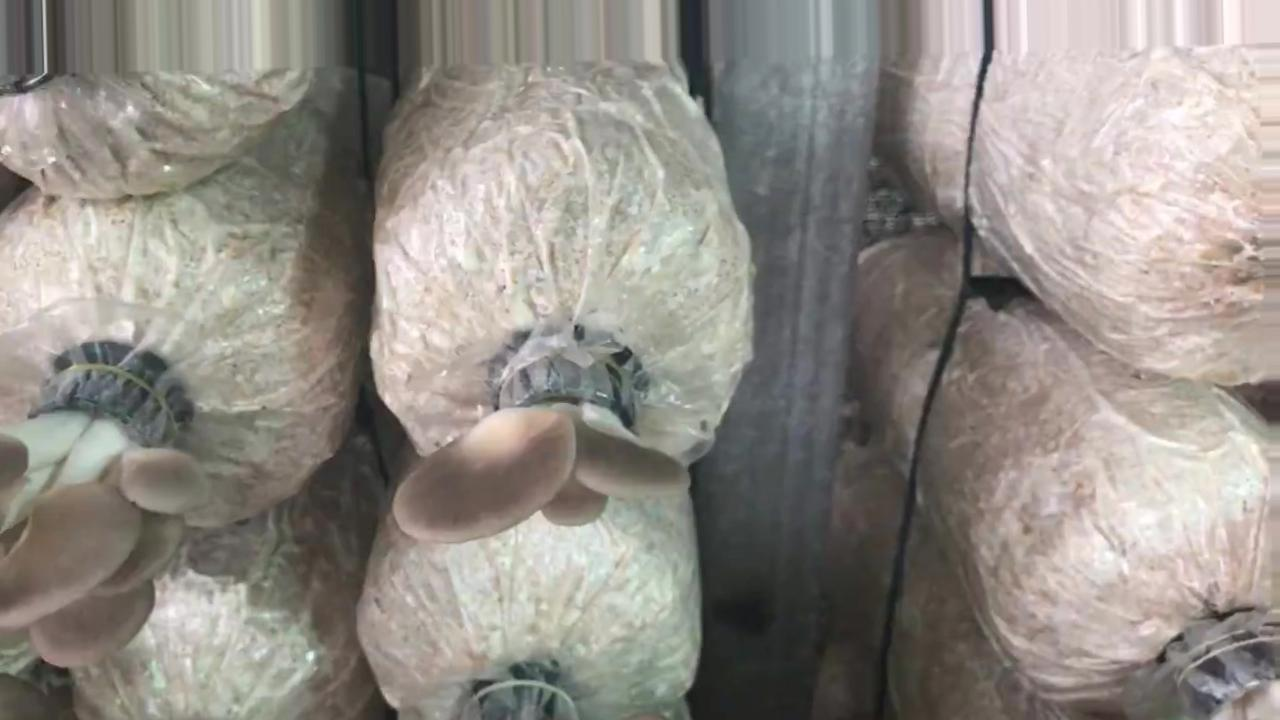nam: (392, 321, 705, 546), (1, 355, 216, 670)
